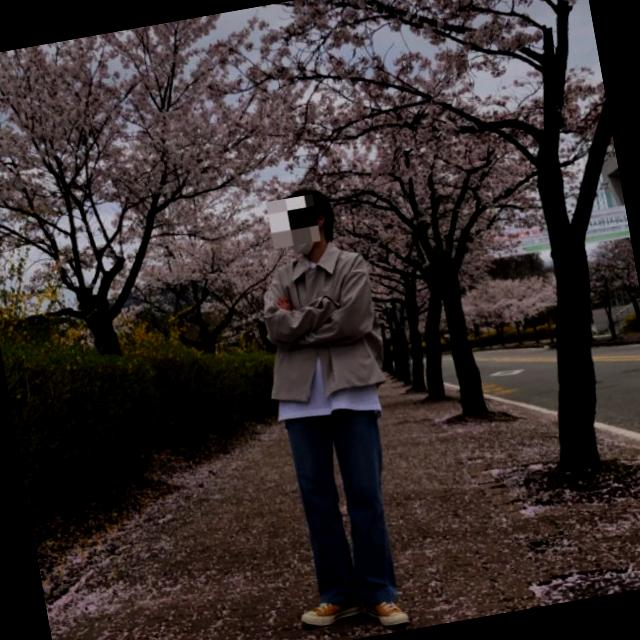denimpants: (285, 402, 408, 614)
jacket: (240, 231, 388, 407)
